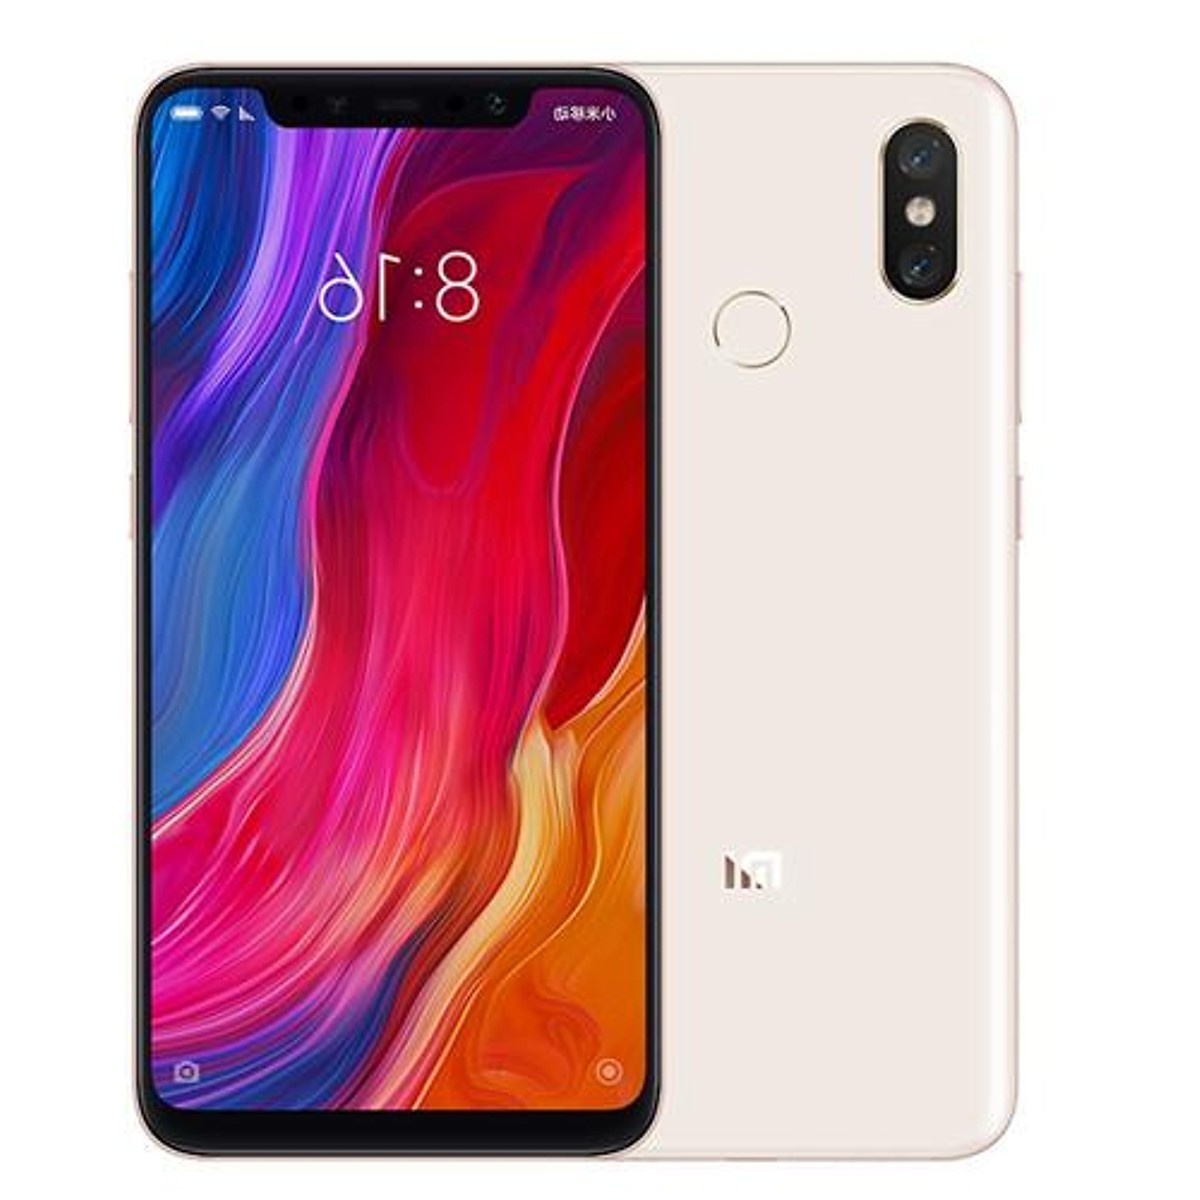Xiaomi: (576, 774, 862, 979)
